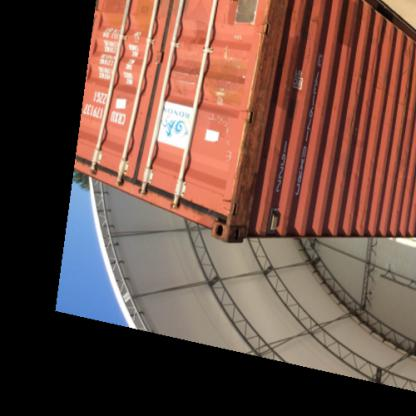Damage: (228, 82, 272, 226), (368, 27, 385, 90), (397, 140, 413, 178), (308, 10, 330, 34), (342, 114, 358, 142), (348, 166, 364, 188)
